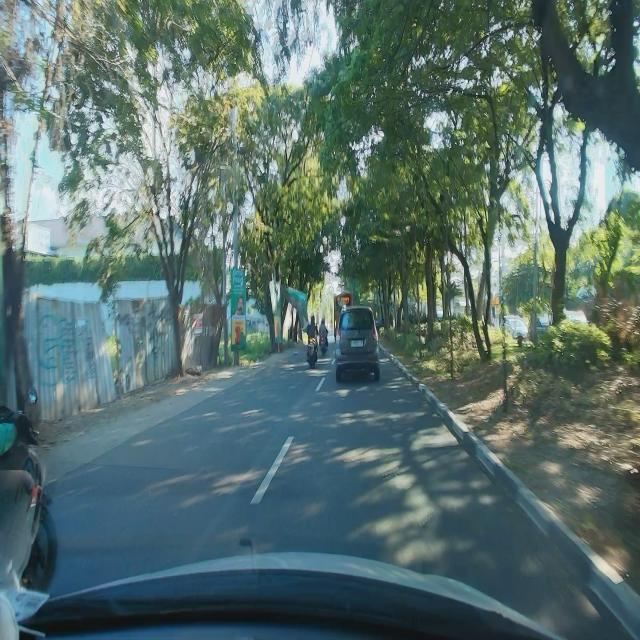car: (334, 304, 381, 385)
license-plate: (350, 339, 364, 348)
